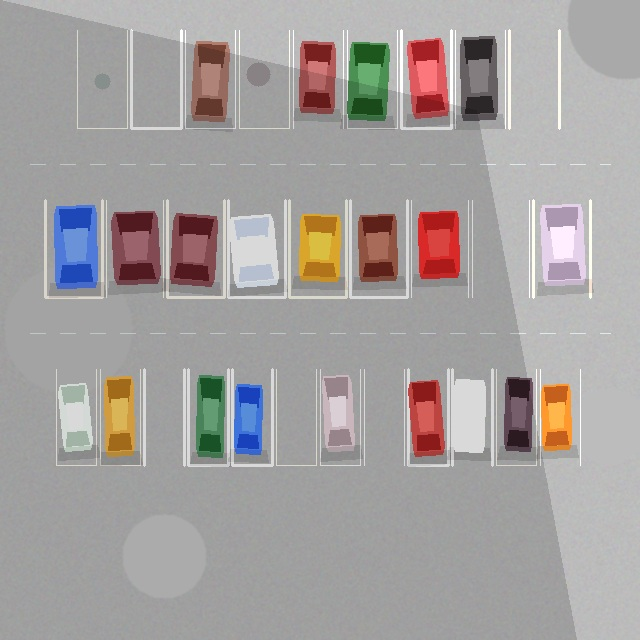space-empty: (472, 200, 529, 297), (77, 30, 127, 128), (131, 30, 181, 128), (239, 30, 289, 128), (509, 30, 559, 128), (144, 369, 184, 465), (276, 369, 316, 465), (364, 369, 404, 465)
space-occupied: (45, 200, 102, 297), (106, 200, 163, 297), (167, 200, 224, 297), (228, 200, 285, 297), (289, 200, 346, 297), (350, 200, 407, 297), (411, 200, 468, 297), (533, 200, 590, 297), (185, 30, 235, 128), (293, 30, 343, 128), (347, 30, 397, 128), (401, 30, 451, 128), (455, 30, 505, 128), (56, 369, 96, 465), (100, 369, 140, 465), (188, 369, 228, 465), (232, 369, 272, 465), (320, 369, 360, 465), (408, 369, 448, 465), (452, 369, 492, 465), (496, 369, 536, 465), (540, 369, 580, 465)
